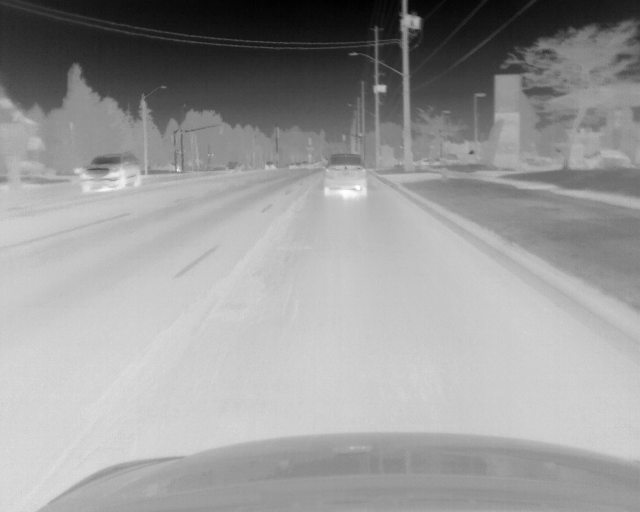car: (79, 155, 142, 189), (323, 154, 368, 199)
